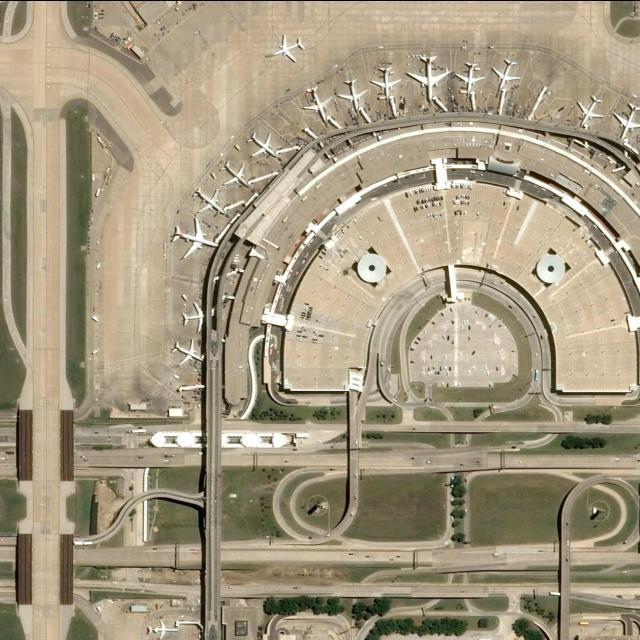Aircraft: (404, 53, 448, 105), (166, 217, 214, 259), (453, 53, 488, 101), (300, 81, 334, 128), (192, 181, 230, 219), (574, 90, 606, 134), (337, 73, 369, 116), (166, 337, 206, 371), (371, 61, 401, 106), (246, 130, 281, 164), (490, 56, 519, 96), (614, 100, 640, 142), (221, 160, 252, 192), (269, 36, 307, 62), (178, 300, 206, 333), (143, 618, 175, 640)
